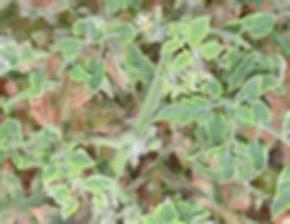Tomato leaf yellow virus: (55, 144, 111, 169), (183, 12, 215, 46), (77, 173, 122, 197), (167, 47, 207, 71), (154, 191, 176, 224)
